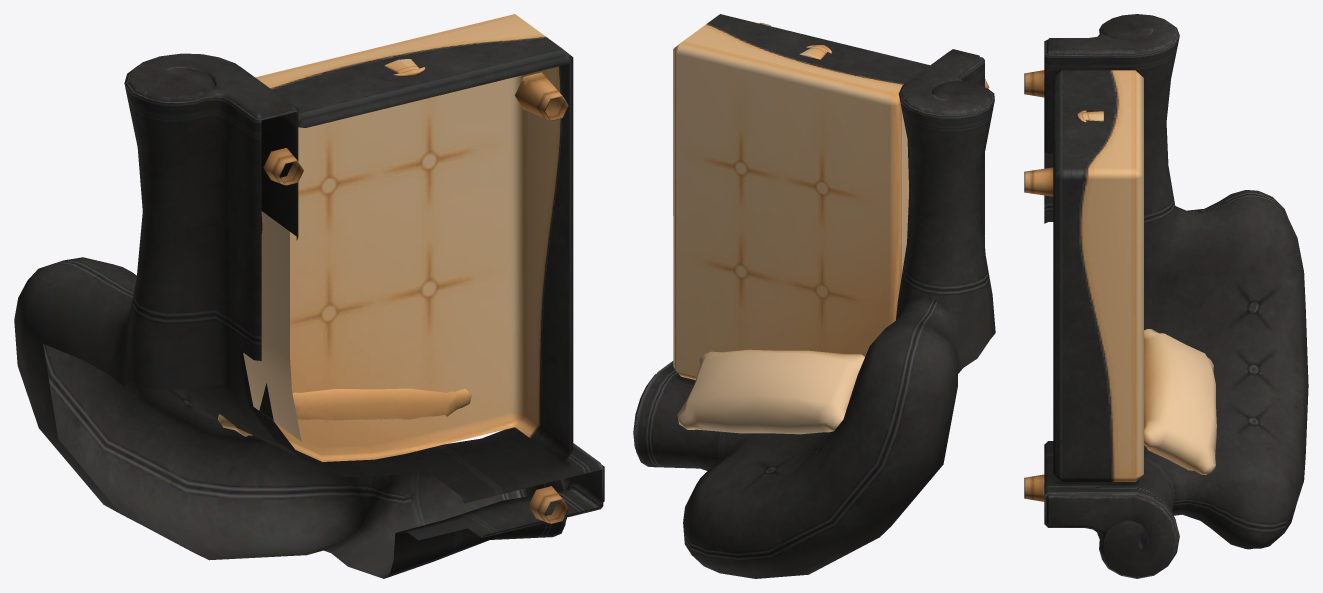
File: HomeBed.obj
The picture shows the model from 3 angles, left to right: view 1: azimuth 30°, elevation 25°; view 2: azimuth 150°, elevation 25°; view 3: azimuth 270°, elevation 25°; orthographic projection. The views are drawn at different scales.
Parts seen in each view (by area): view 1: Bed__BodyMT; view 2: Bed__BodyMT; view 3: Bed__BodyMT.
Part boxes in pixels (bbox=[...]): Bed__BodyMT: bbox=[14, 14, 604, 578]; Bed__BodyMT: bbox=[633, 14, 995, 578]; Bed__BodyMT: bbox=[1024, 14, 1308, 578].
Size of the model in its own units: 228 by 282 by 165.
